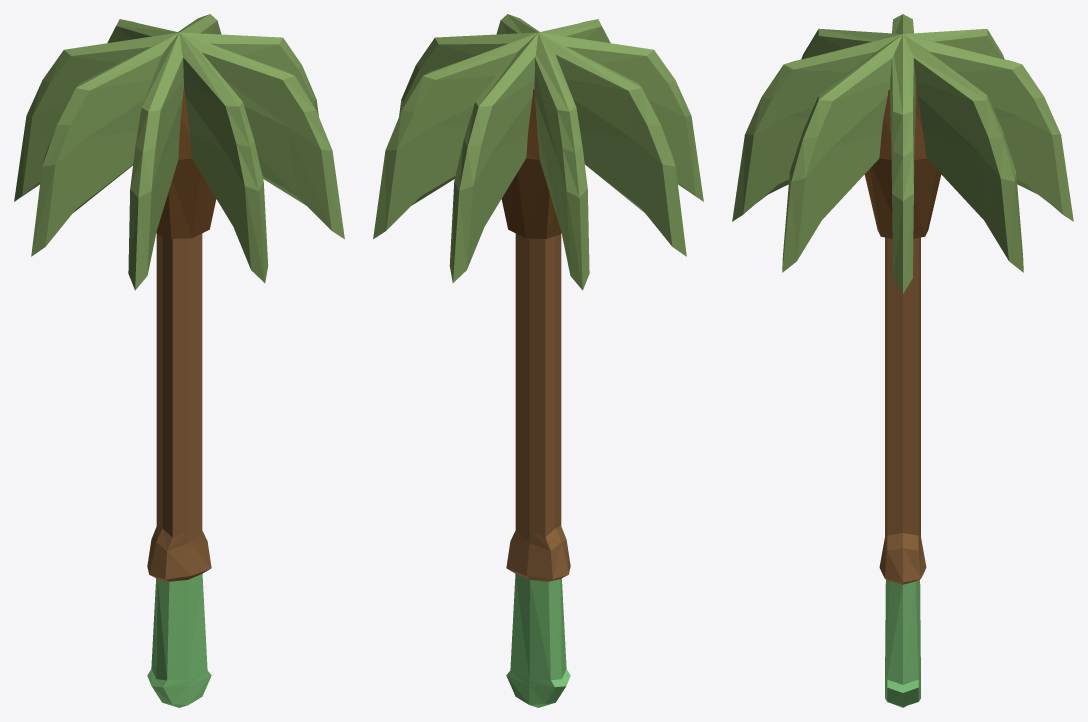
Rendered from scene_ejKnXPFkkX.glb.
The picture shows the model from 3 angles, left to right: view 1: azimuth 30°, elevation 25°; view 2: azimuth 150°, elevation 25°; view 3: azimuth 270°, elevation 25°; orthographic projection.
Visible parts, largest first — view 1: Palm_tree_mace_Palmmace_Cube.011; view 2: Palm_tree_mace_Palmmace_Cube.011; view 3: Palm_tree_mace_Palmmace_Cube.011.
Boxes of the visible parts, x1,y1,x2,y2 form: Palm_tree_mace_Palmmace_Cube.011: (14, 14, 344, 707); Palm_tree_mace_Palmmace_Cube.011: (373, 14, 703, 707); Palm_tree_mace_Palmmace_Cube.011: (732, 14, 1073, 707).
Bounding box in the file's own units: 1.69 × 3.67 × 1.69.
Materials: 1 (1 with a texture image).
